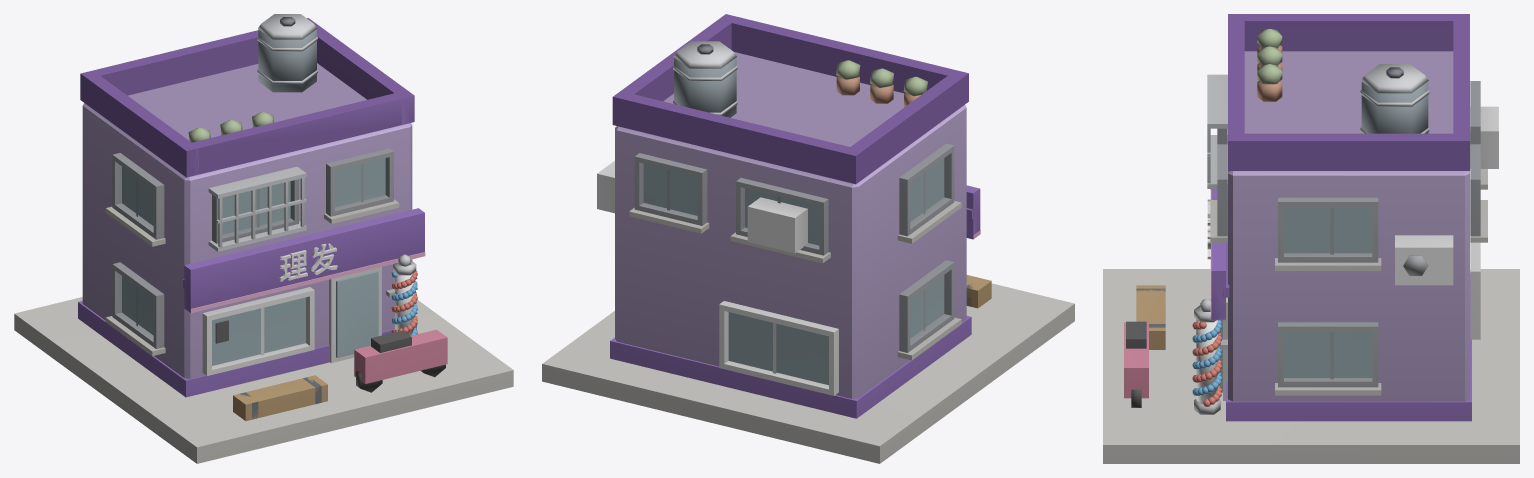
The model's file is barber.glb.
3 renders of one model, left to right at view 1: azimuth 30°, elevation 25°; view 2: azimuth 150°, elevation 25°; view 3: azimuth 270°, elevation 25°, orthographic. The views are drawn at different scales.
Parts seen in each view (by area): view 1: barber; view 2: barber; view 3: barber.
Part boxes in pixels (<box>): barber: <box>14,14,513,463</box>; barber: <box>542,14,1074,463</box>; barber: <box>1103,14,1519,463</box>.
Size of the model in its own units: 1 by 0.897 by 1.
